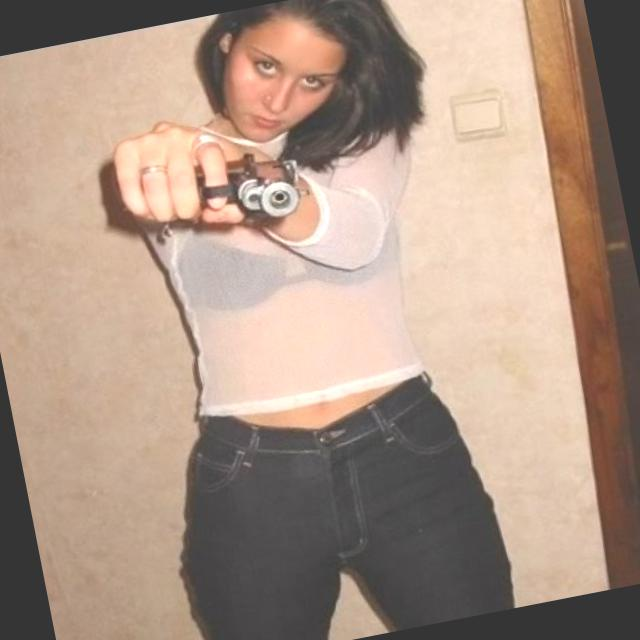handgun: (77, 115, 319, 260)
